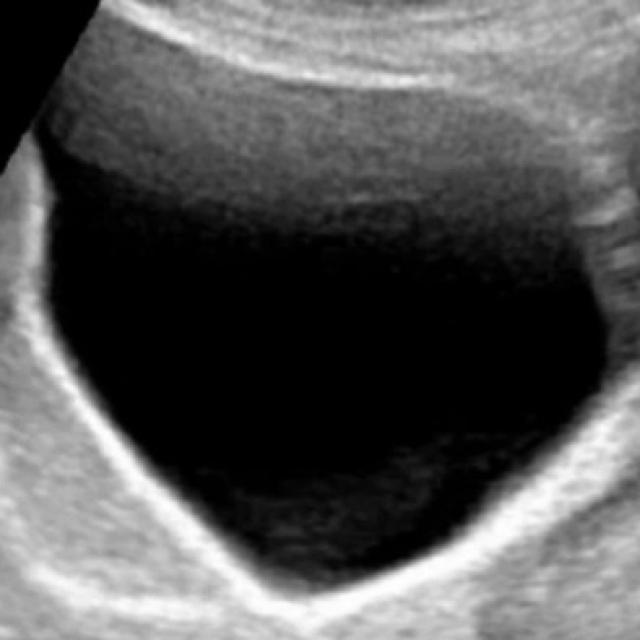bladder: (25, 2, 626, 625)
